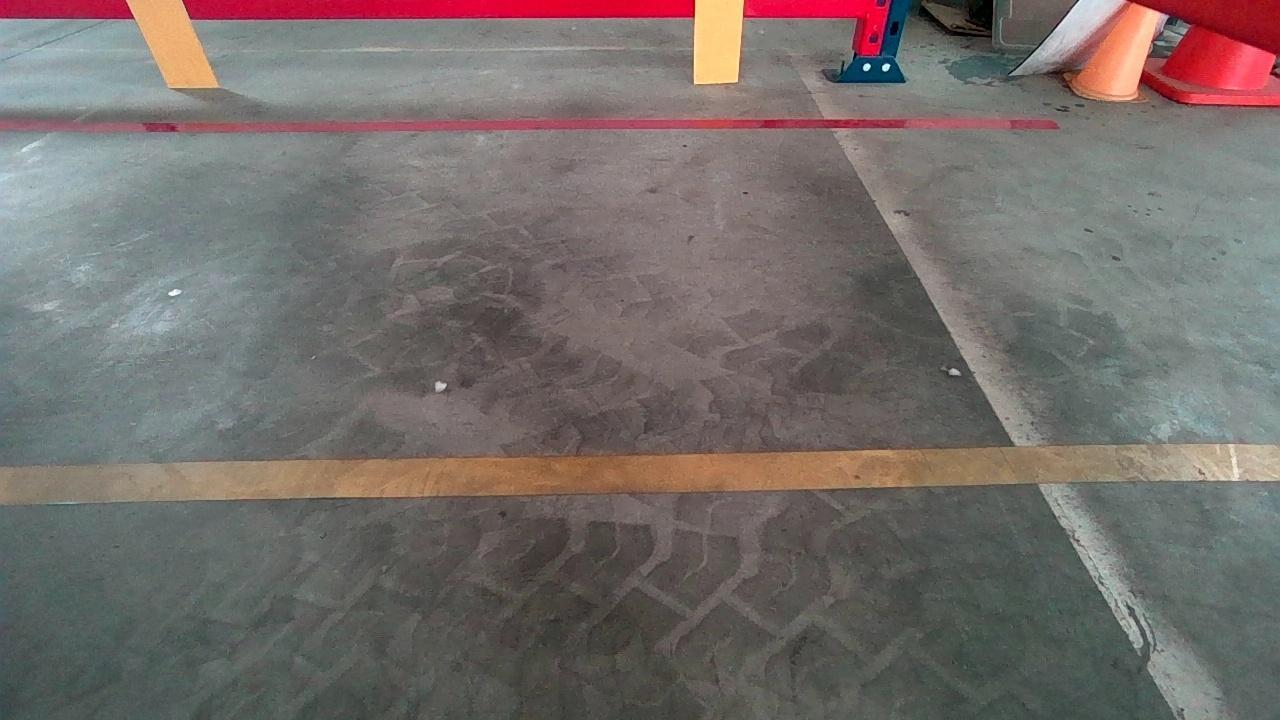h_rack: (0, 0, 870, 27)
orange_strip: (123, 0, 219, 85), (693, 0, 743, 81)
red_line: (6, 111, 1036, 141)
yellow_line: (0, 439, 1275, 507)
